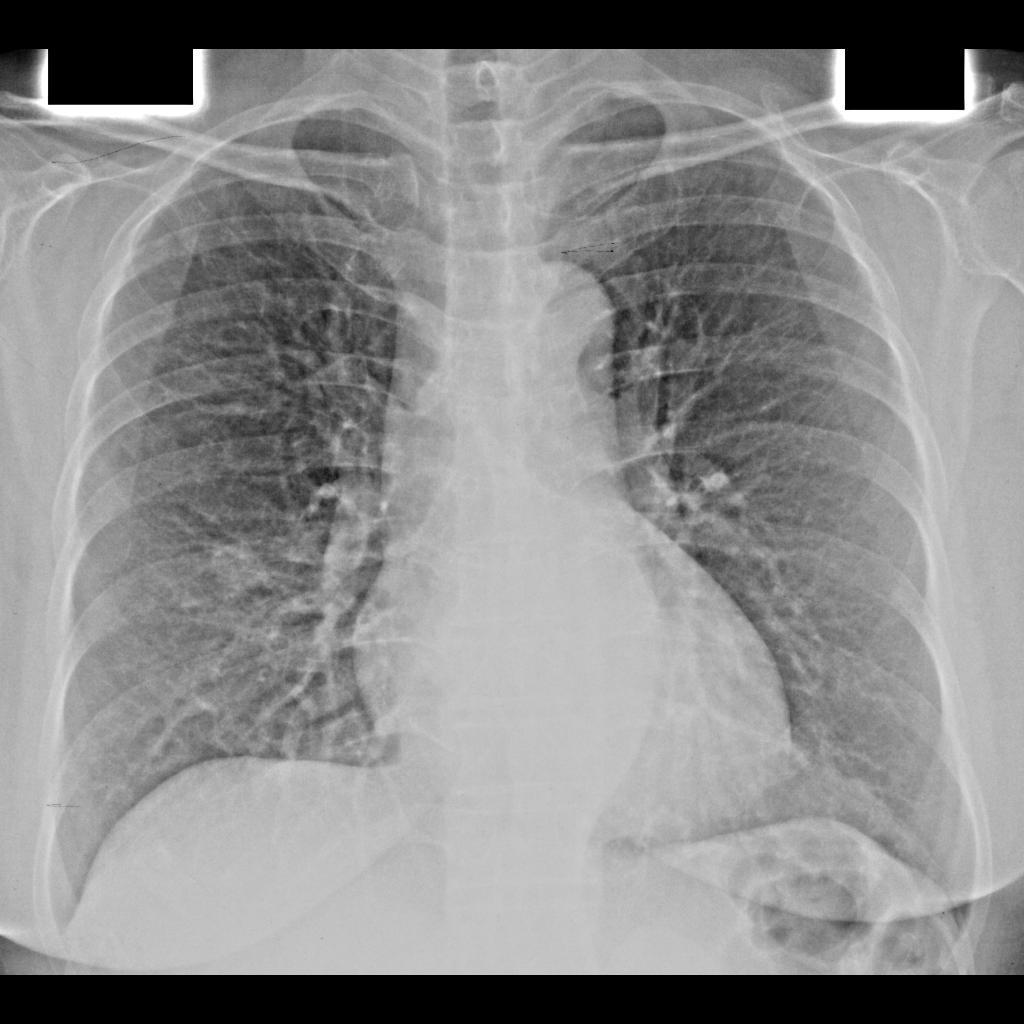Nodule: (209, 541, 264, 596)
